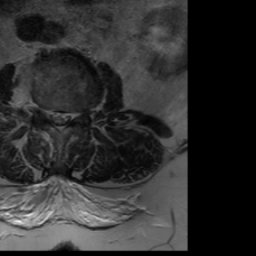CCS_normal: (55, 101, 63, 137)
LFS_stenosis: (73, 100, 83, 126)
LLS_normal: (63, 101, 73, 131)
RFS_stenosis: (39, 98, 46, 120)
RLS_normal: (46, 100, 55, 130)
